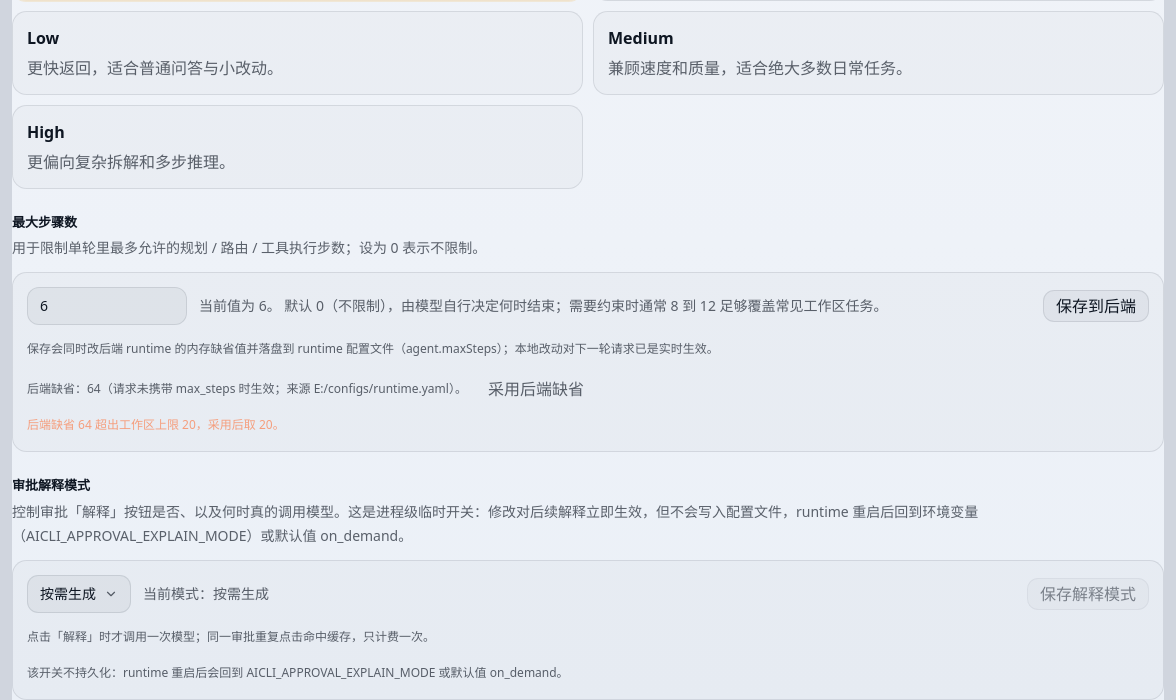
ChatSettingsPage max steps › clamps an adopted server default above the workspace limit
This screenshot has width=1176, height=700.
(page scrolled)
What coordinates should you click on to do the following:
click the button "采用后端缺省"
I would click on:
 (536, 389)
Its box is [475,373,597,405].
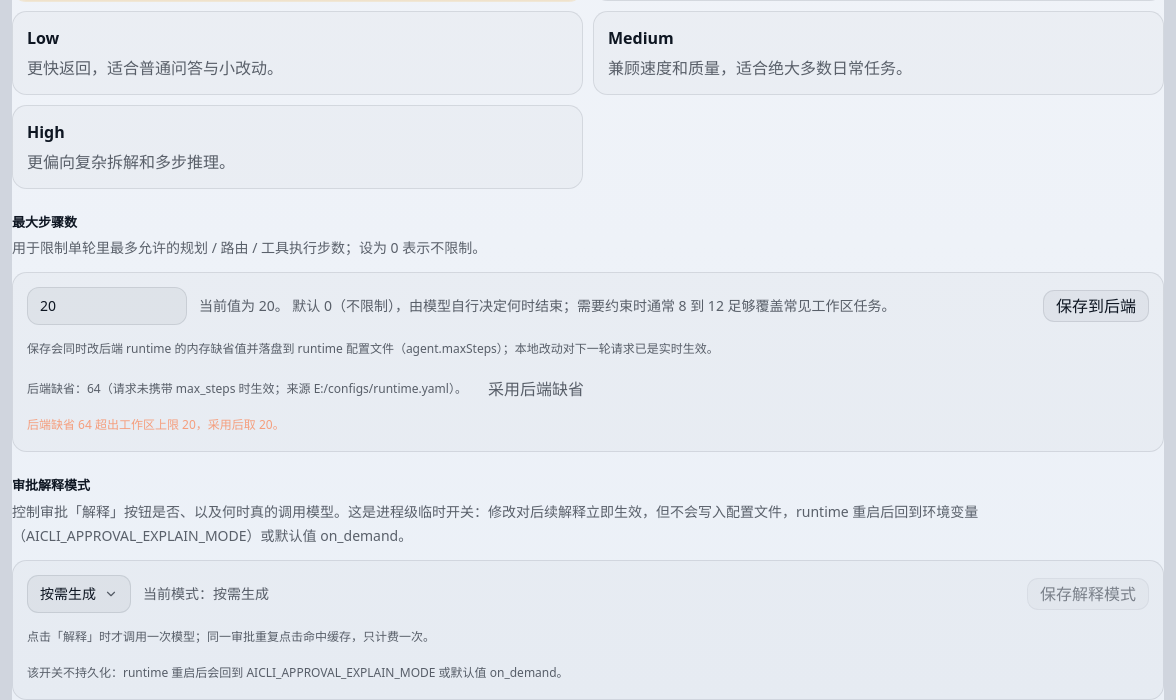
Result: the number field holds "20" at [27,287,187,325]
